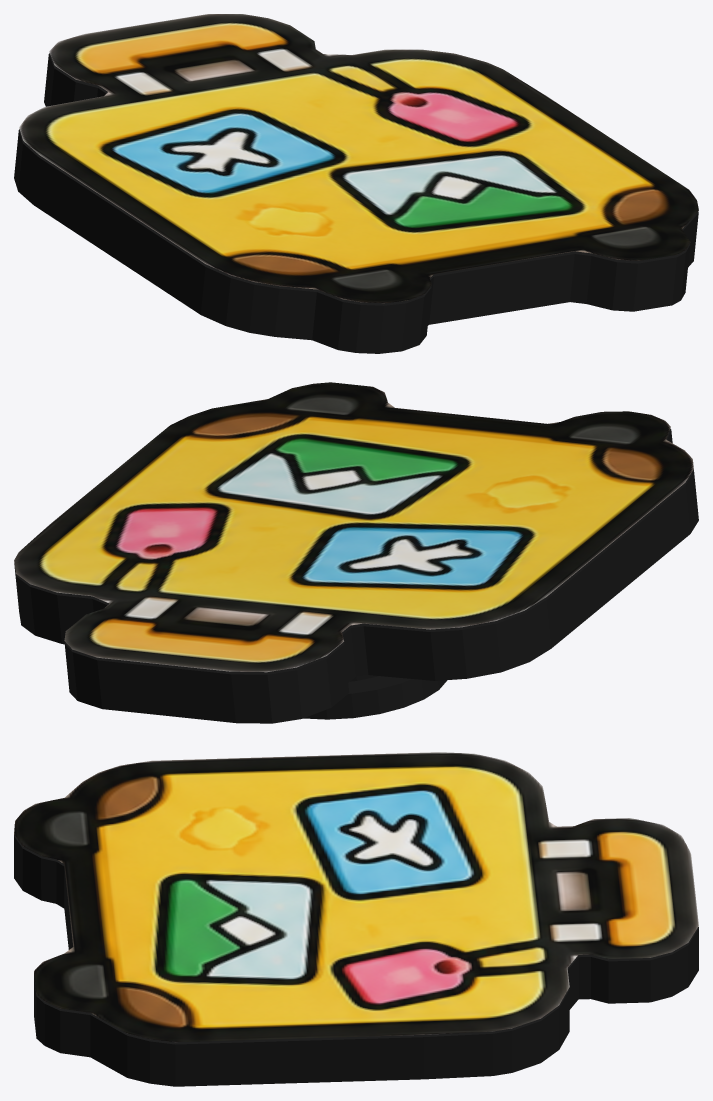
The model's file is travel-suitcase.glb.
3 views of the same model, one above another, from view 1: azimuth 30°, elevation 25°; view 2: azimuth 150°, elevation 25°; view 3: azimuth 270°, elevation 25° (orthographic). The views are drawn at different scales.
Parts seen in each view (by area): view 1: TRAVEL_Suitcase_MODEL; view 2: TRAVEL_Suitcase_MODEL; view 3: TRAVEL_Suitcase_MODEL.
Boxes of the visible parts, box(x1,y1,x2,y2) form: TRAVEL_Suitcase_MODEL: box(14, 14, 698, 353); TRAVEL_Suitcase_MODEL: box(14, 382, 698, 723); TRAVEL_Suitcase_MODEL: box(14, 752, 698, 1086).
Bounding box in the file's own units: 0.2912 × 0.0979 × 0.354.
Materials: 3 (1 with a texture image).
